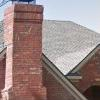Chimney: (3, 4, 58, 79)
